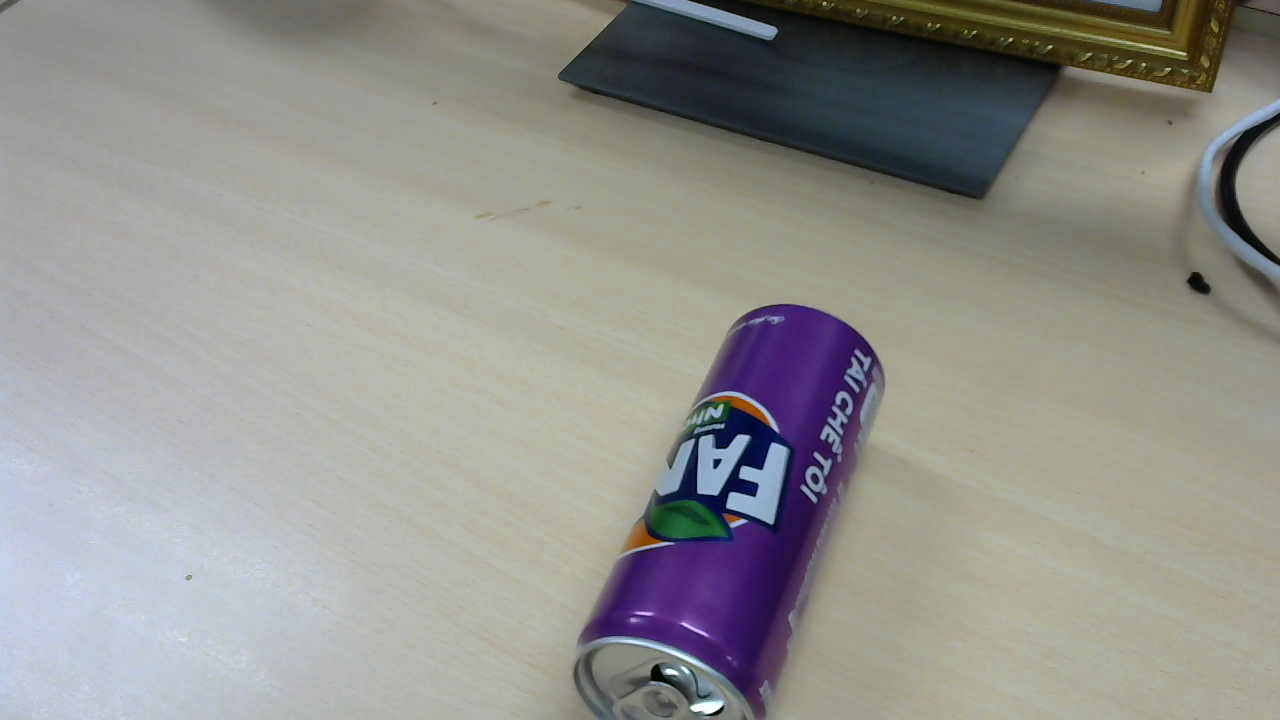Fanta: (576, 308, 892, 699)
